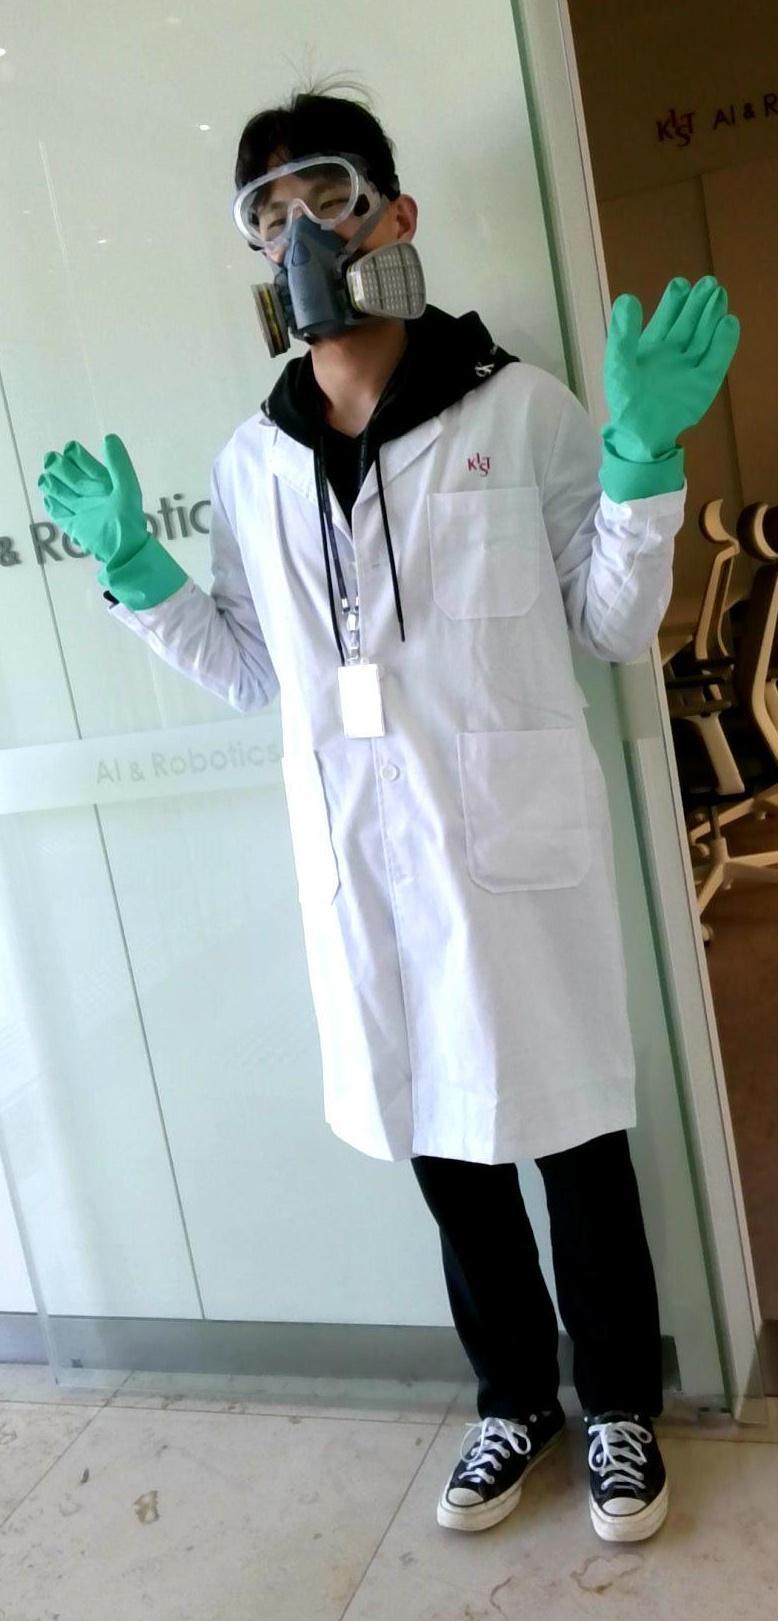lab_coat: (239, 367, 584, 1160)
